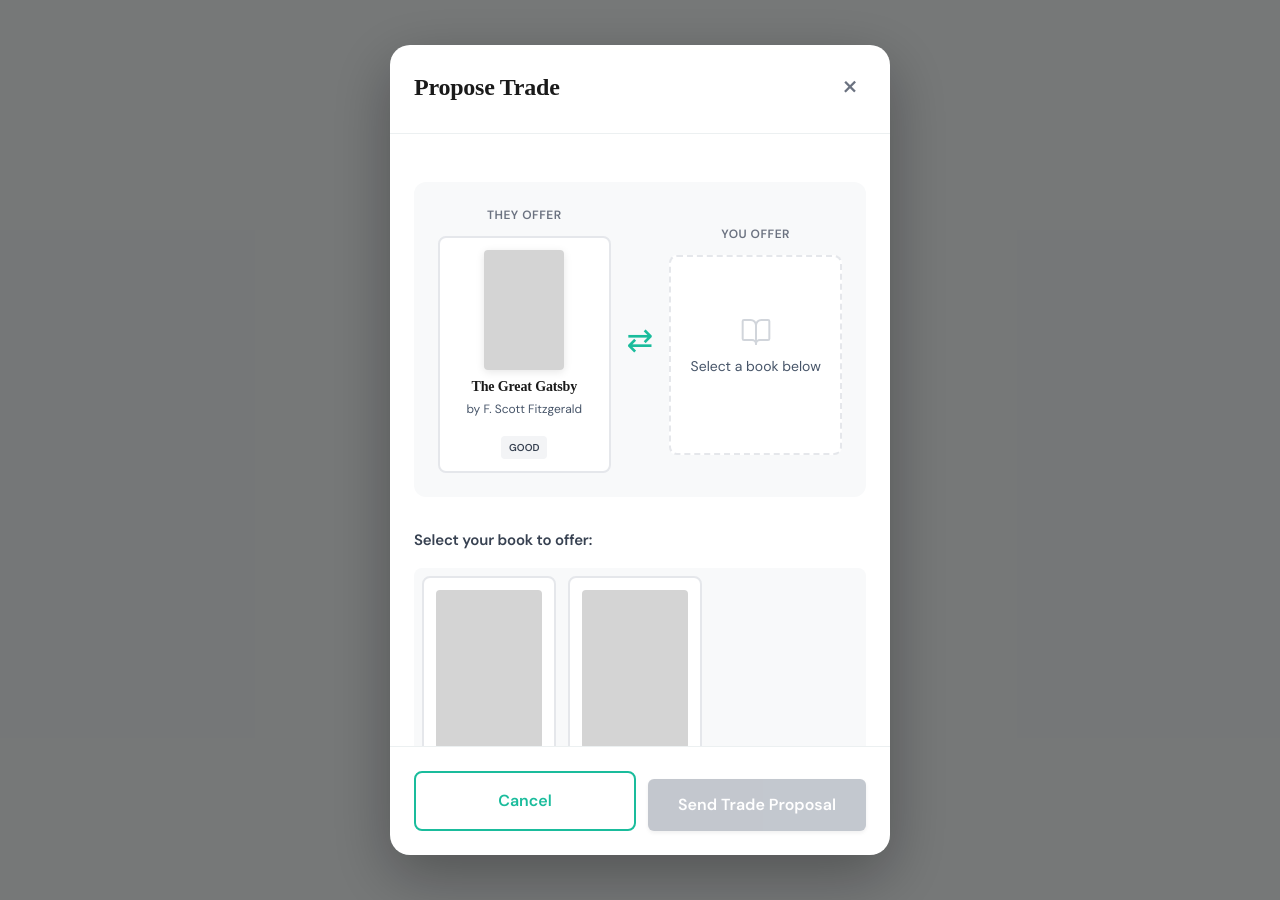
Test: TradeProposalModal › displays user-friendly error for OFFERED_BOOK_NOT_FOUND error code
Click the text "To Kill a Mockingbird".
click(489, 705)  # box [422,576,556,834]
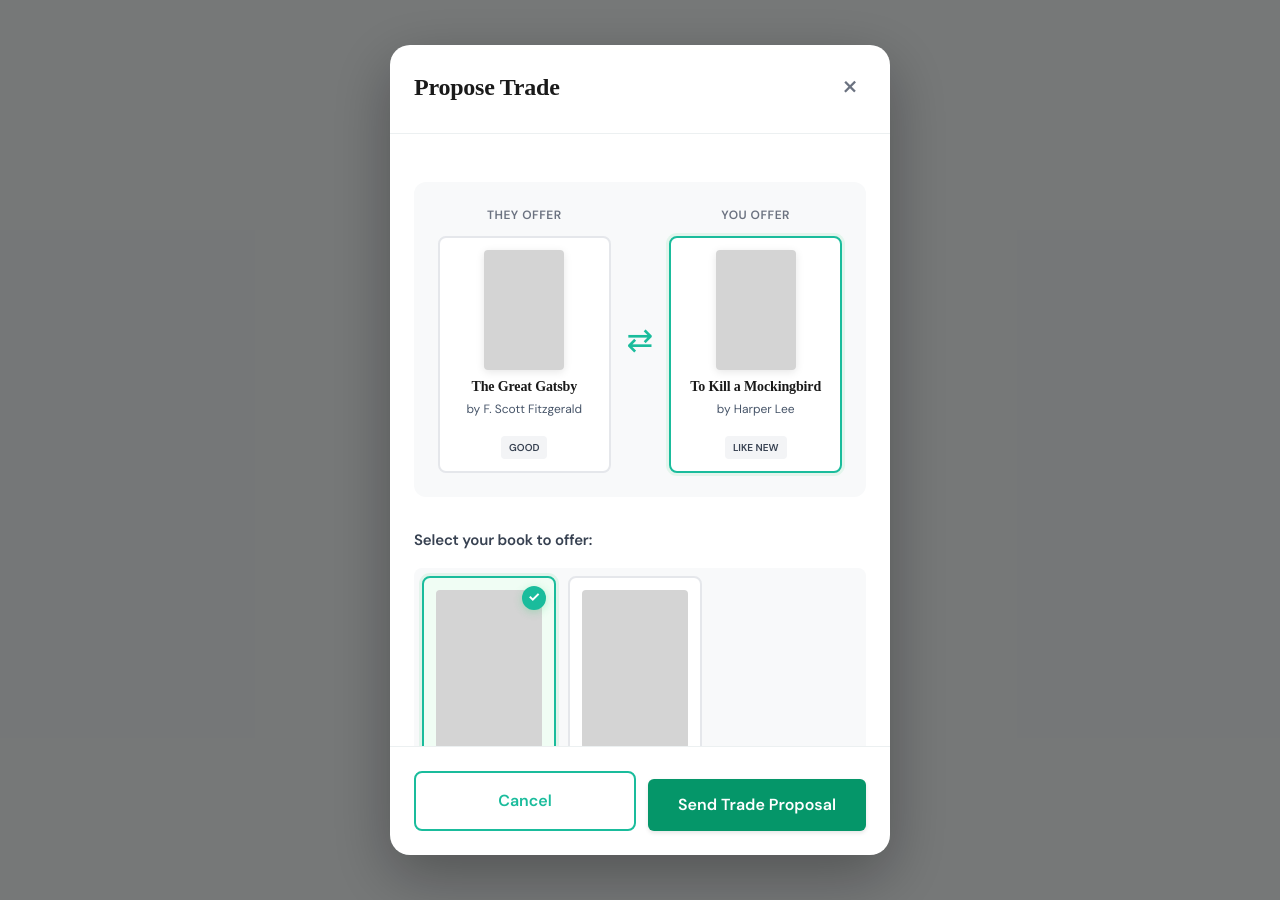
Click the button "Send Trade Proposal".
click(757, 805)  # box [648,779,866,831]
(page scrolled)
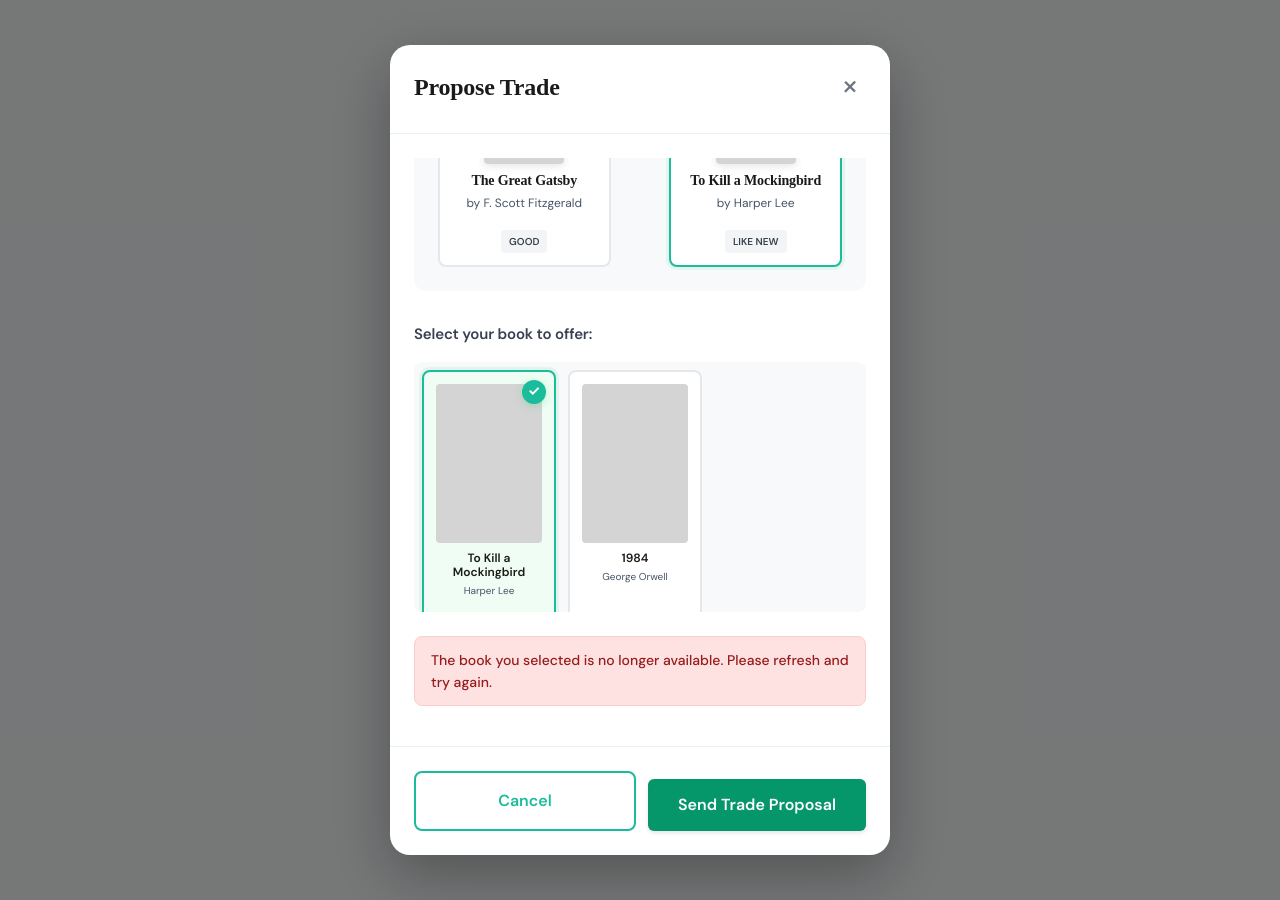
Expected: the text "The book you selected is no longer available. Please refresh and try again." is shown, [414,636,866,706]
